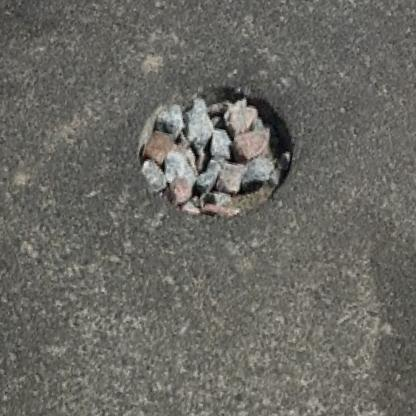pothole: (118, 64, 315, 240)
